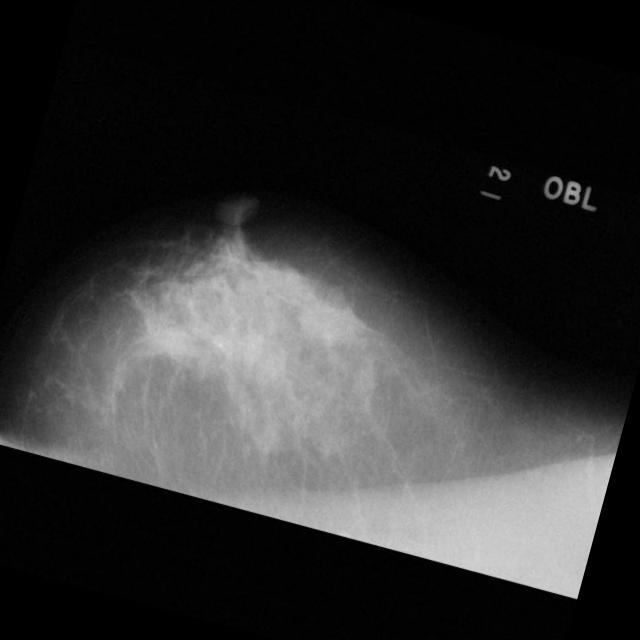ARCH: (94, 272, 215, 393)
